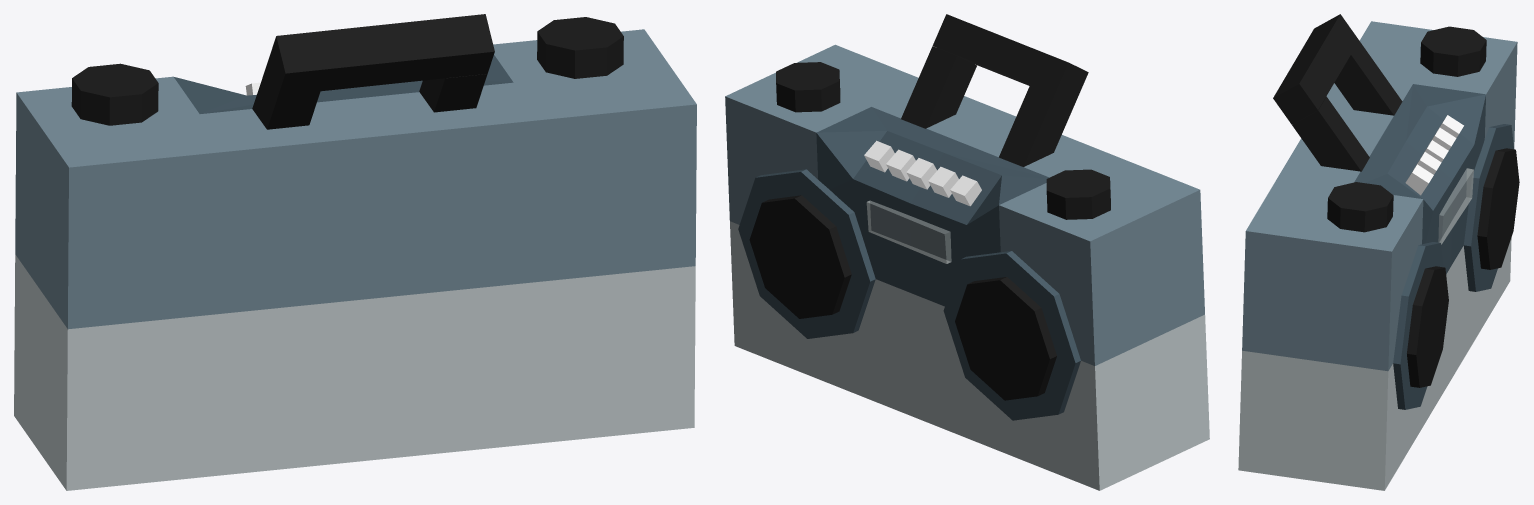
File: boombox.glb
The picture shows the model from 3 angles, left to right: view 1: azimuth 30°, elevation 25°; view 2: azimuth 150°, elevation 25°; view 3: azimuth 270°, elevation 25°; orthographic projection. The views are drawn at different scales.
Parts seen in each view (by area): view 1: group799403676; view 2: group799403676; view 3: group799403676.
Boxes of the visible parts, x1,y1,x2,y2 form: group799403676: [14, 14, 696, 490]; group799403676: [725, 14, 1209, 490]; group799403676: [1238, 14, 1519, 490].
Size of the model in its own units: 0.5264 by 0.3664 by 0.2825.
